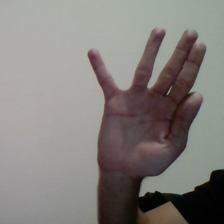left: (79, 18, 214, 184)
